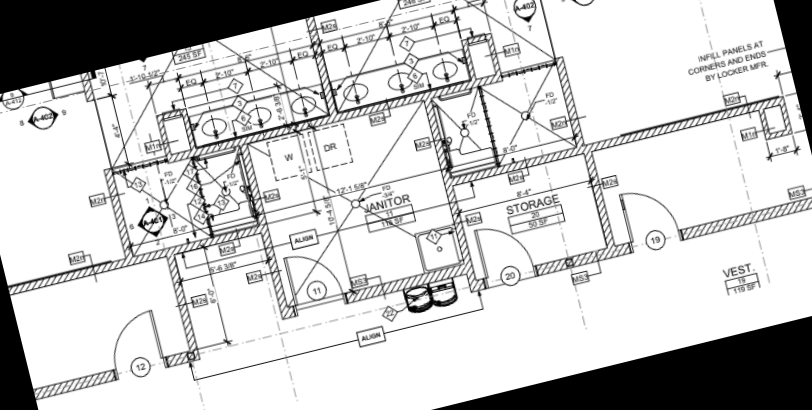door: (279, 242, 348, 311), (99, 306, 168, 373), (471, 217, 538, 284), (615, 180, 681, 247)
wall: (450, 90, 790, 189), (163, 70, 506, 165), (8, 221, 263, 297), (419, 97, 479, 284), (237, 142, 293, 325), (673, 191, 812, 246), (339, 261, 469, 310), (531, 238, 638, 282), (580, 148, 621, 251), (550, 50, 590, 150), (304, 17, 342, 118), (162, 254, 198, 352), (101, 166, 136, 260), (33, 366, 118, 403), (159, 346, 204, 372), (459, 42, 481, 81), (78, 72, 100, 106), (485, 36, 504, 75), (761, 124, 798, 143), (458, 31, 495, 48), (754, 106, 774, 137), (276, 301, 303, 323), (465, 276, 492, 297), (777, 101, 796, 130)
